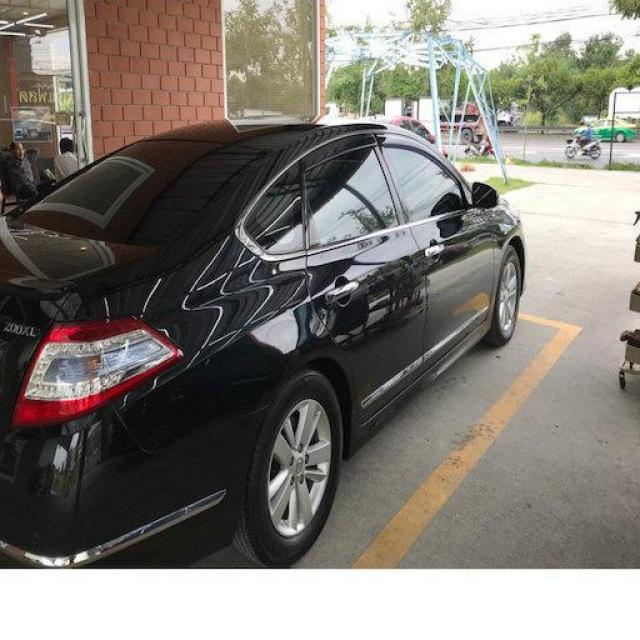back_glass: (12, 139, 263, 249)
back_right_door: (300, 132, 428, 425)
back_right_light: (9, 315, 185, 426)
front_right_door: (372, 132, 494, 374)
right_mirror: (471, 182, 500, 210)
wheel: (232, 244, 523, 567)
